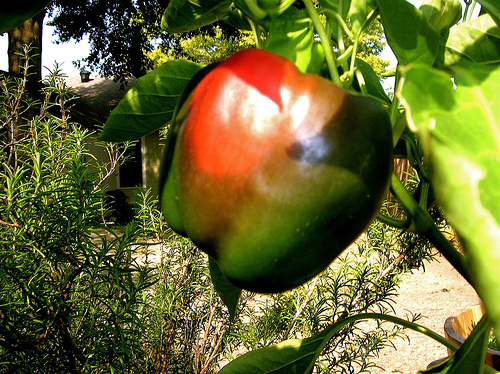capsicum: (158, 48, 393, 293)
